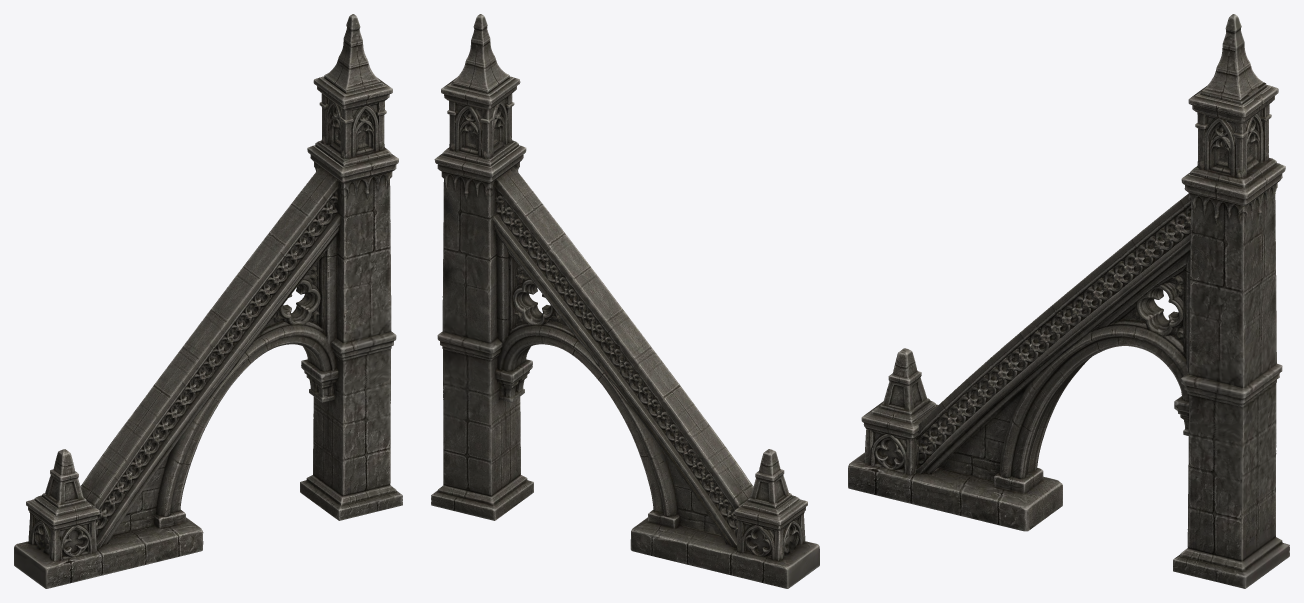
Rendered from Meshy_AI_model.glb.
3 views of the same model, side by side, from view 1: azimuth 30°, elevation 25°; view 2: azimuth 150°, elevation 25°; view 3: azimuth 330°, elevation 25° (orthographic). The views are drawn at different scales.
Visible parts, largest first — view 1: mesh_node; view 2: mesh_node; view 3: mesh_node.
Part boxes in pixels (box(x1,y1,x2,y2)): mesh_node: box(14, 14, 402, 588); mesh_node: box(431, 14, 819, 588); mesh_node: box(848, 14, 1289, 588).
Size of the model in its own units: 1.46 by 1.91 by 0.2808.
Materials: 1 (1 with a texture image).
